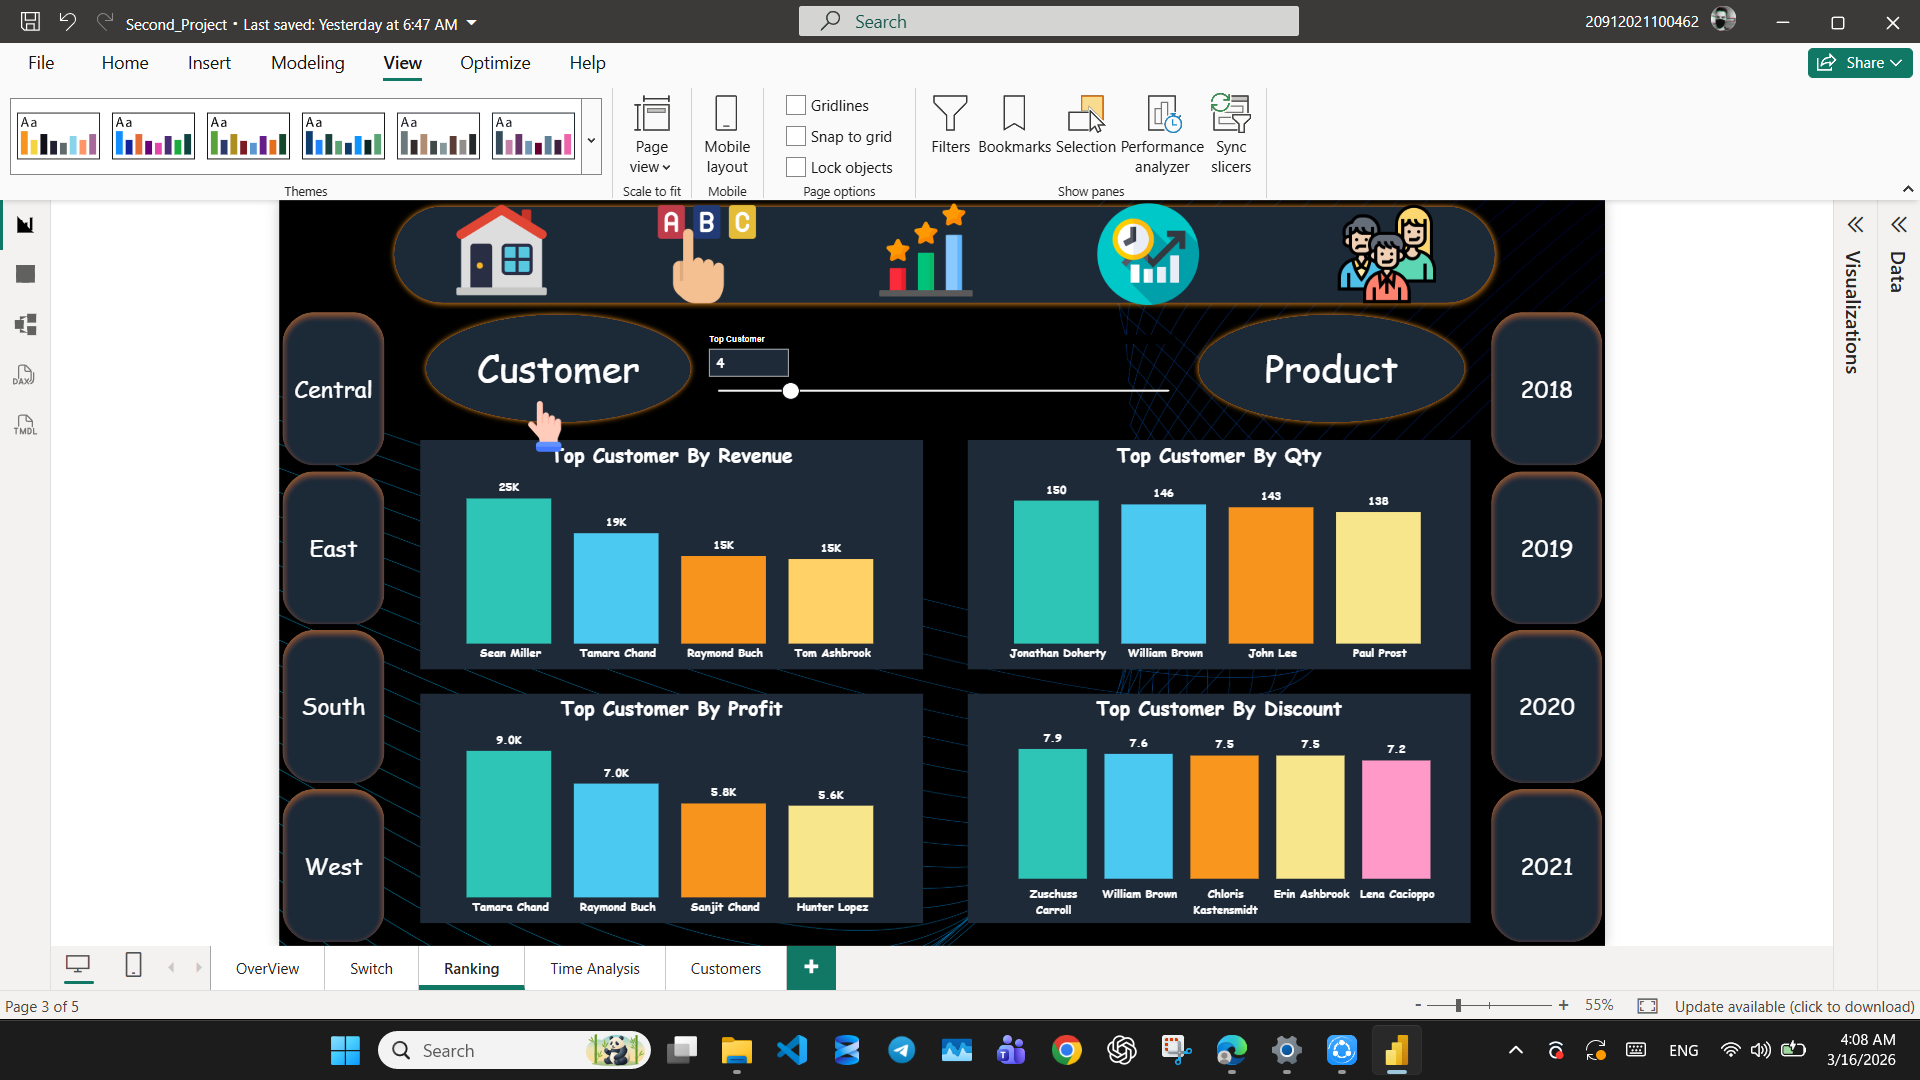

What the dashboard file says about the page in this screenshot:
{"tool":"powerbi","page":{"name":"Ranking","canvas":[1920,1080],"ordinal":2},"visuals":[{"type":"shape","box":[158,0,1762,158],"z":0},{"type":"actionButton","title":"Button_Customer","box":[204.6,157.7,399.8,172.7],"z":2000},{"type":"actionButton","title":"Button_Product","box":[1482,158,402,172],"z":3000},{"type":"slicer","title":"Top Customer","fields":{"Values":["Customer_Parameter.Customer_Parameter"]},"box":[604,172,878,158],"z":8000},{"type":"clusteredColumnChart","title":"Top Customer By Revenue","fields":{"Y":["Dax.Ranking _Customer_Rev"],"Category":["Dim_Customer.Customer Name"]},"box":[204,348,788,332],"z":9000},{"type":"clusteredColumnChart","title":"Top Customer By Profit","fields":{"Category":["Dim_Customer.Customer Name"],"Y":["Dax.Ranking _Customer_profit"]},"box":[204,714,788,332],"z":10000},{"type":"clusteredColumnChart","title":"Top Customer By Qty","fields":{"Y":["Dax.Ranking _Customer_qty"],"Category":["Dim_Customer.Customer Name"]},"box":[1016,348,874,332],"z":11000},{"type":"clusteredColumnChart","title":"Top Customer By Discount","fields":{"Category":["Dim_Customer.Customer Name"],"Y":["Dax.Ranking _Customer_discount"]},"box":[1016,714,874,332],"z":12000},{"type":"image","title":"Image_profit_Customer","box":[335,243.3,100,170],"z":13000},{"type":"image","box":[230.7,0,184.2,144.8],"z":15000},{"type":"image","box":[650,0,158,158],"z":16000},{"type":"image","box":[1734,0,156,158],"z":17000},{"type":"image","box":[1016,0,158,144],"z":18000},{"type":"image","box":[1374,0,158,158],"z":19000},{"type":"advancedSlicerVisual","fields":{"Values":["Dim_Customer.Region"]},"box":[0,160,158.3,406.7],"z":20000},{"type":"advancedSlicerVisual","fields":{"Values":["Calendar_Table.Year"]},"box":[0,585.7,158.6,494.3],"z":21000}]}

Visuals, with their boxes on the page's 1920x1080 design canvas (x1, y1, x2, y2). These are canvas units, not pixel positions in the 1920x1080 screenshot, which may show the page scaled, cropped or inside an application window:
shape: {"left": 158, "top": 0, "right": 1920, "bottom": 158}
"Button_Customer" actionButton: {"left": 205, "top": 158, "right": 604, "bottom": 330}
"Button_Product" actionButton: {"left": 1482, "top": 158, "right": 1884, "bottom": 330}
"Top Customer" slicer: {"left": 604, "top": 172, "right": 1482, "bottom": 330}
"Top Customer By Revenue" clusteredColumnChart: {"left": 204, "top": 348, "right": 992, "bottom": 680}
"Top Customer By Profit" clusteredColumnChart: {"left": 204, "top": 714, "right": 992, "bottom": 1046}
"Top Customer By Qty" clusteredColumnChart: {"left": 1016, "top": 348, "right": 1890, "bottom": 680}
"Top Customer By Discount" clusteredColumnChart: {"left": 1016, "top": 714, "right": 1890, "bottom": 1046}
"Image_profit_Customer" image: {"left": 335, "top": 243, "right": 435, "bottom": 413}
image: {"left": 231, "top": 0, "right": 415, "bottom": 145}
image: {"left": 650, "top": 0, "right": 808, "bottom": 158}
image: {"left": 1734, "top": 0, "right": 1890, "bottom": 158}
image: {"left": 1016, "top": 0, "right": 1174, "bottom": 144}
image: {"left": 1374, "top": 0, "right": 1532, "bottom": 158}
advancedSlicerVisual - Dim_Customer.Region: {"left": 0, "top": 160, "right": 158, "bottom": 567}
advancedSlicerVisual - Calendar_Table.Year: {"left": 0, "top": 586, "right": 159, "bottom": 1080}
